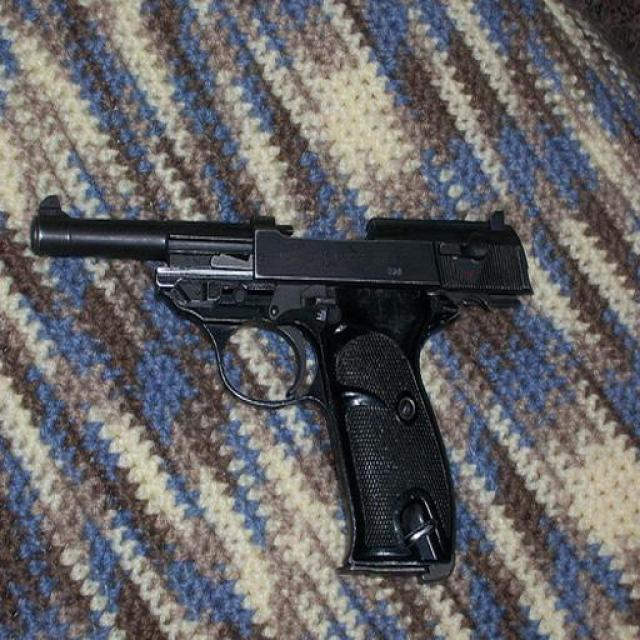pistol: (29, 191, 535, 582)
